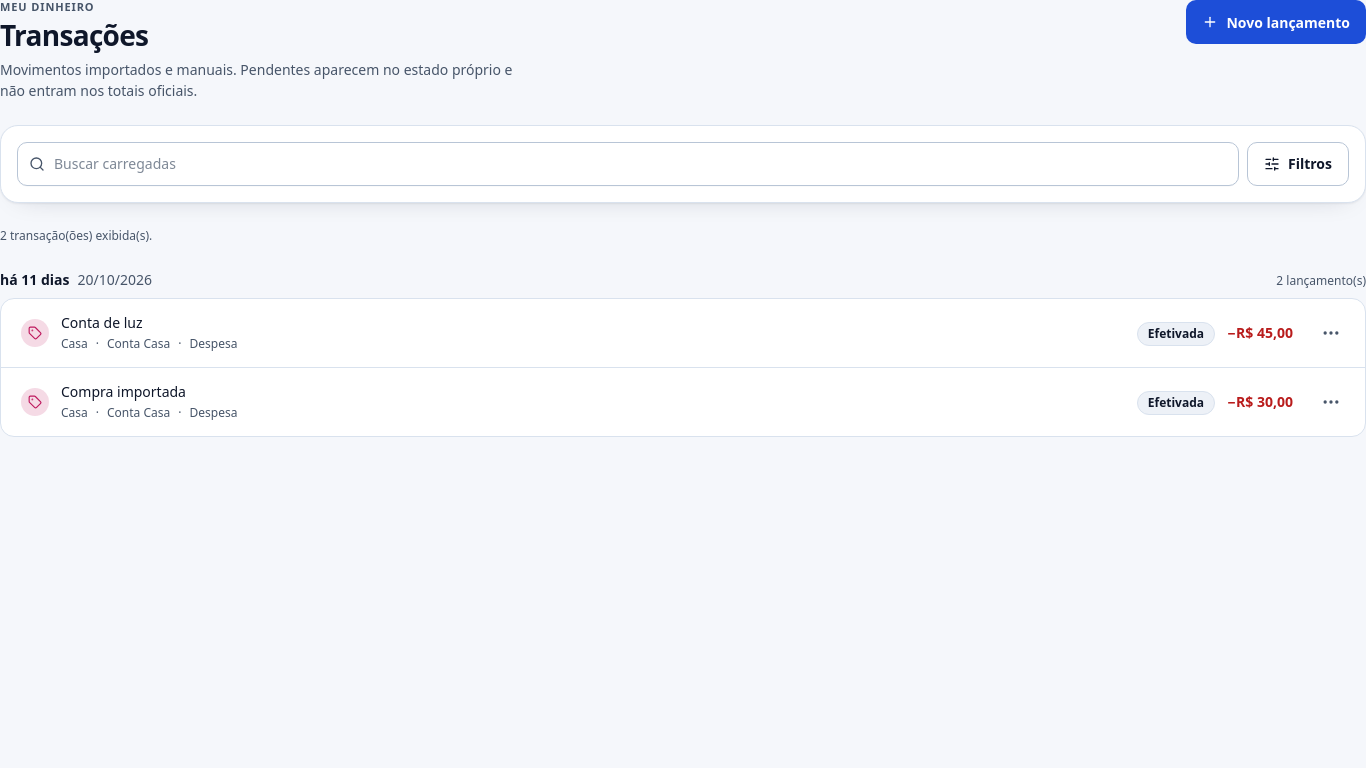
Test: exclusão de lançamento manual › só oferece exclusão para lançamento manual e exige confirmação
The width and height of the screenshot is (1366, 768).
expect the text "Conta de luz" is shown: met, box x1=61 y1=313 x2=142 y2=332
Click the text "Compra importada". click: (124, 392)
box: x1=61 y1=382 x2=186 y2=401
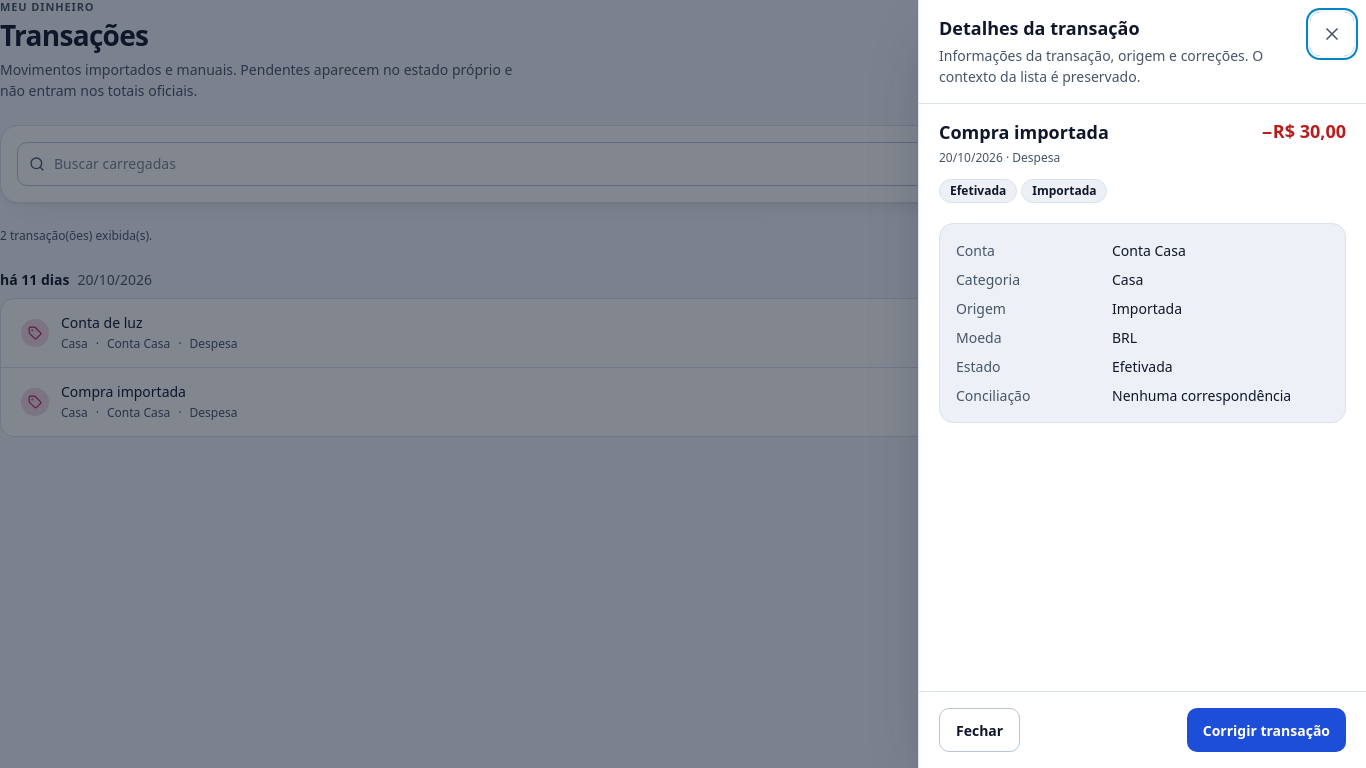
expect the button "Excluir lançamento" is not shown: met
Press Escape
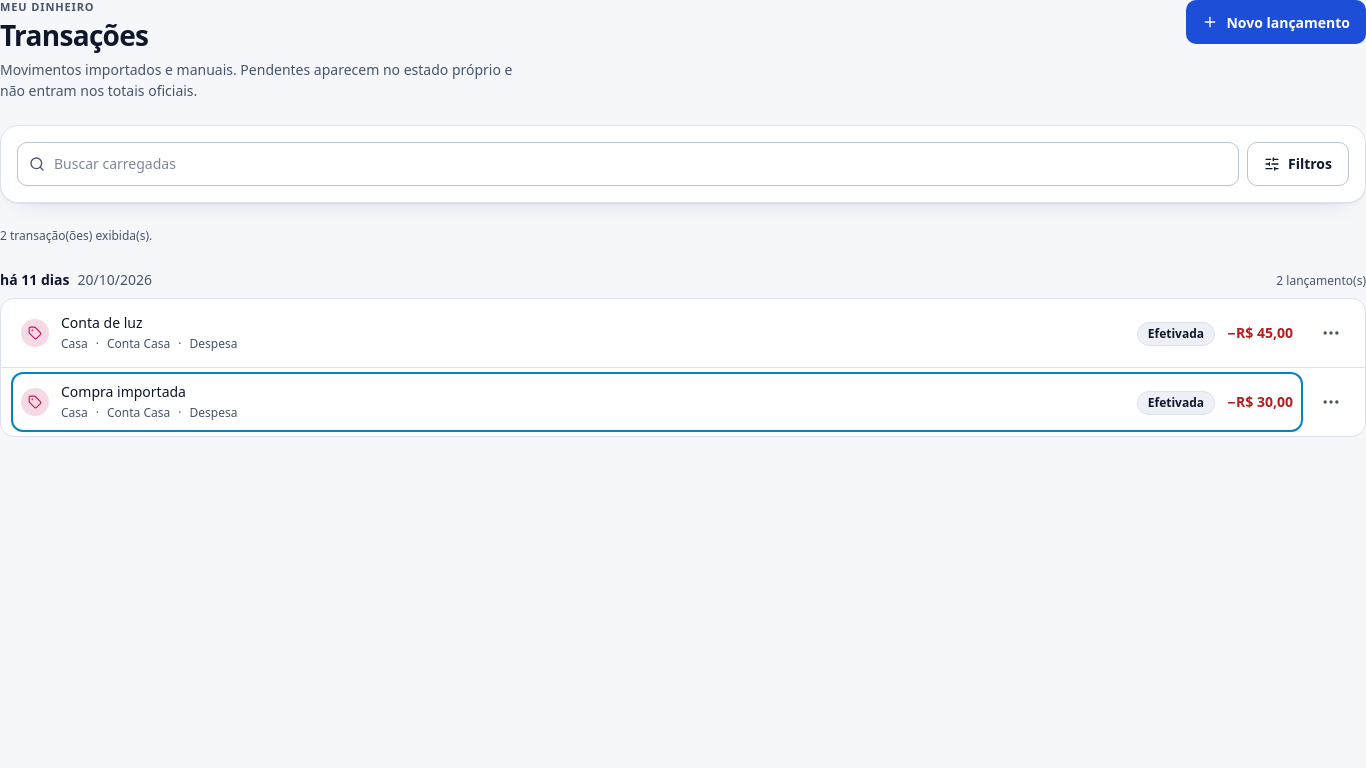
Click the text "Conta de luz". click: (102, 323)
box: x1=61 y1=313 x2=142 y2=332
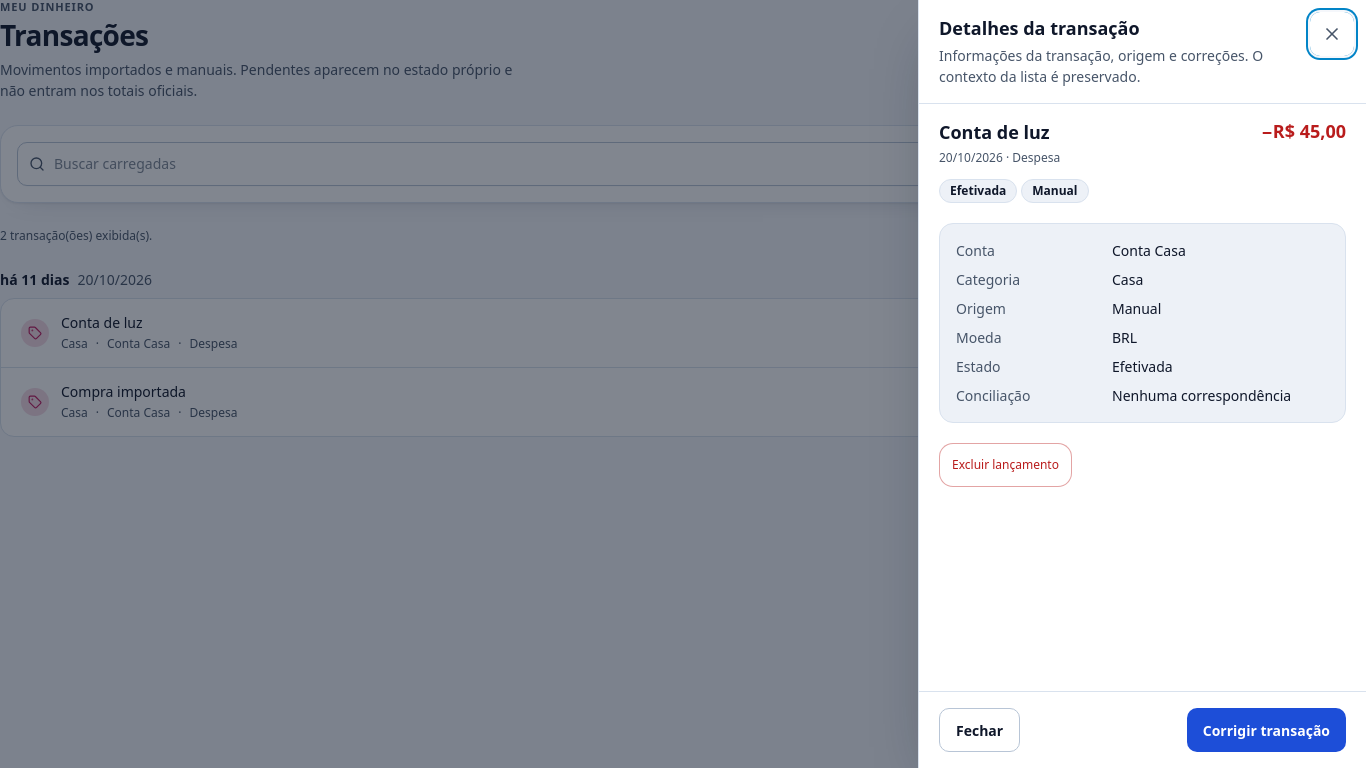
Click the button "Excluir lançamento". click: (1006, 465)
box: x1=939 y1=443 x2=1072 y2=487
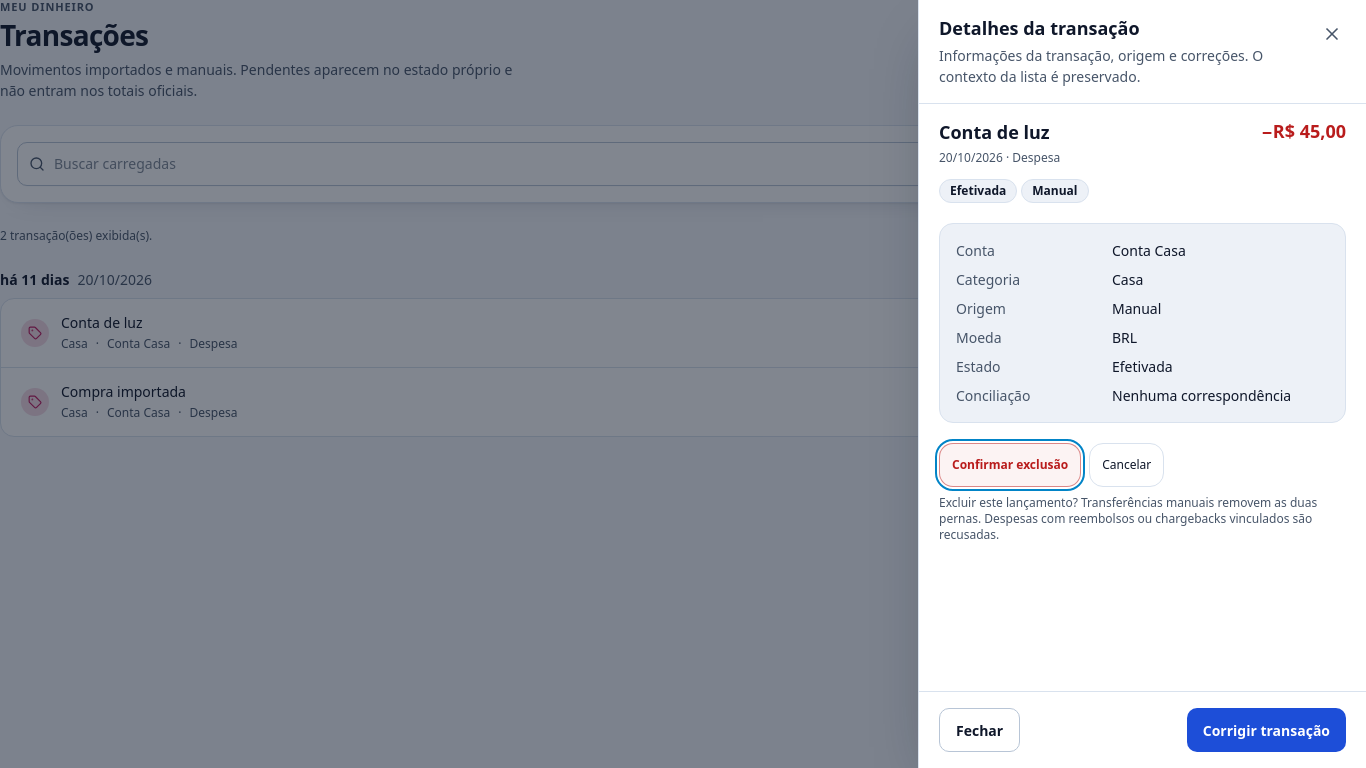
expect the text "Transferências manuais removem as duas pernas" is shown: met, box x1=939 y1=494 x2=1317 y2=543
Click the button "Confirmar exclusão". click: (1010, 465)
box: x1=939 y1=443 x2=1081 y2=487
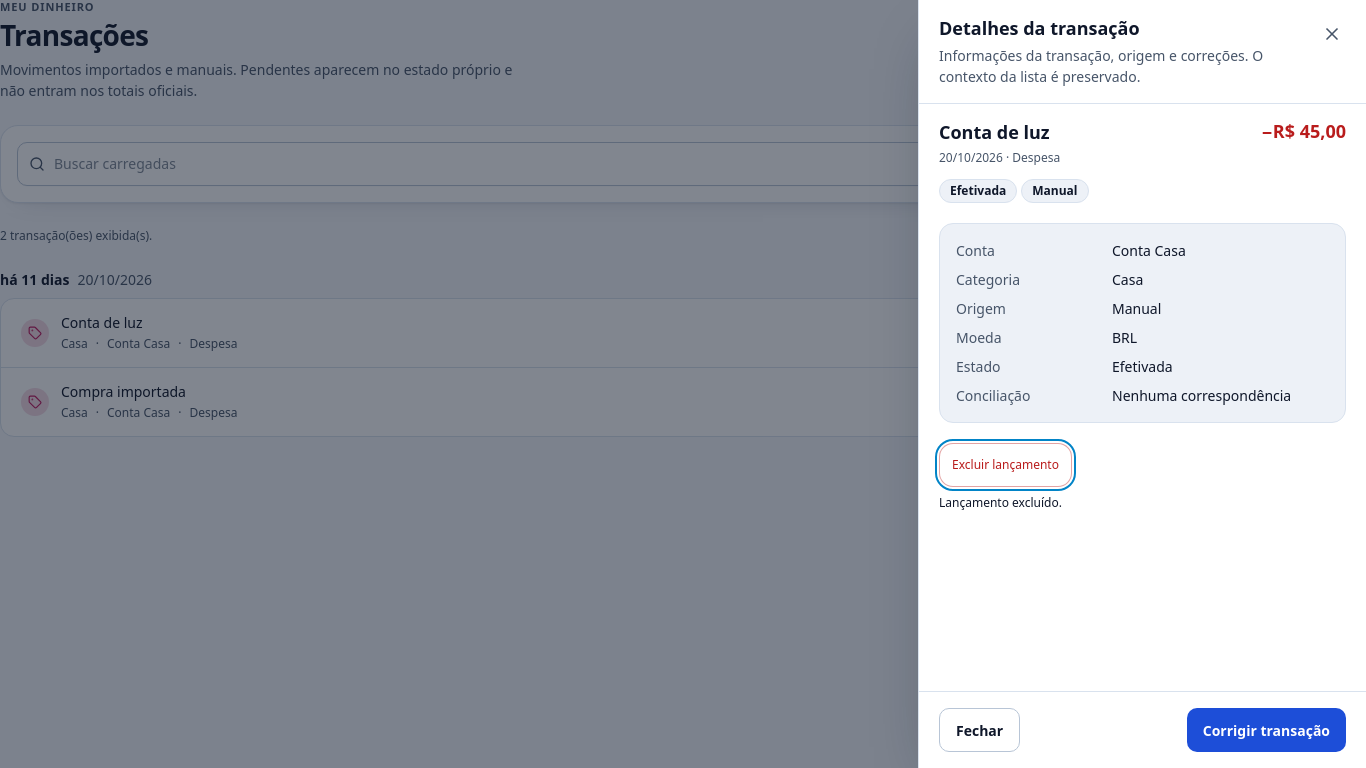
expect the text "Lançamento excluído." is shown: met, box x1=939 y1=494 x2=1062 y2=511
